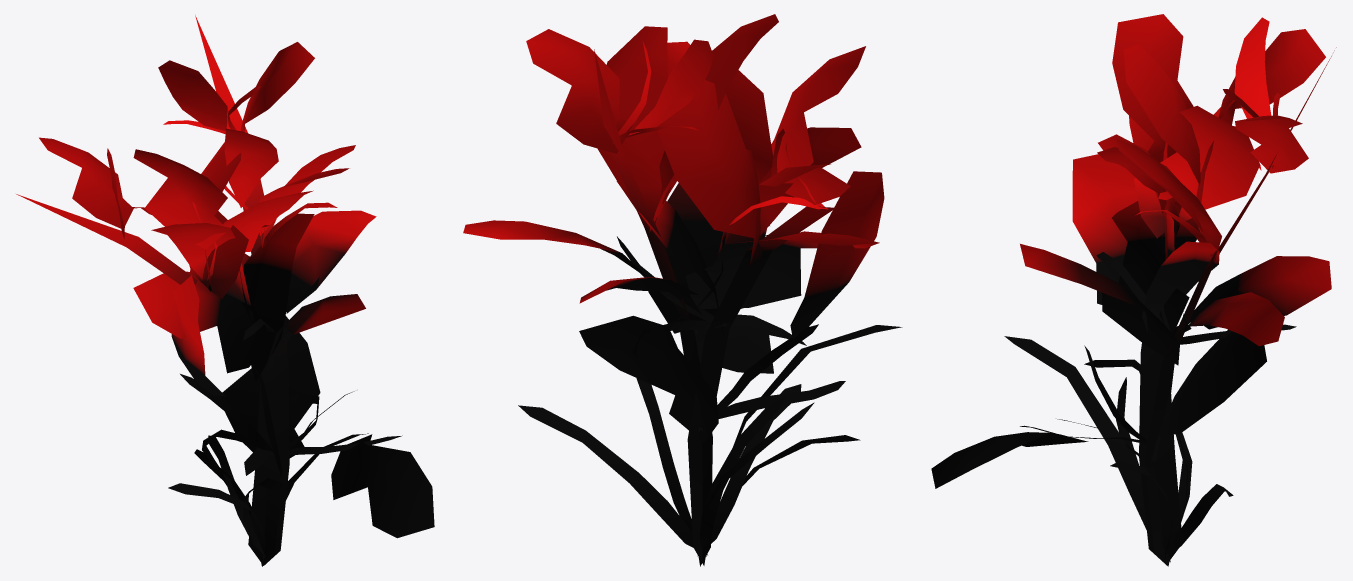
File: SM_WeedyBush_01_Stems.fbx
3 renders of one model, left to right at view 1: azimuth 30°, elevation 25°; view 2: azimuth 150°, elevation 25°; view 3: azimuth 270°, elevation 25°, orthographic. The views are drawn at different scales.
Visible parts, largest first — view 1: SM_WeedyBush_01_Stems_LOD0; view 2: SM_WeedyBush_01_Stems_LOD0; view 3: SM_WeedyBush_01_Stems_LOD0.
Part boxes in pixels (box(x1,y1,x2,y2)): SM_WeedyBush_01_Stems_LOD0: box(16, 15, 434, 566); SM_WeedyBush_01_Stems_LOD0: box(463, 14, 902, 566); SM_WeedyBush_01_Stems_LOD0: box(931, 14, 1336, 566).
Size of the model in its own units: 51.77 by 47.88 by 68.62.
